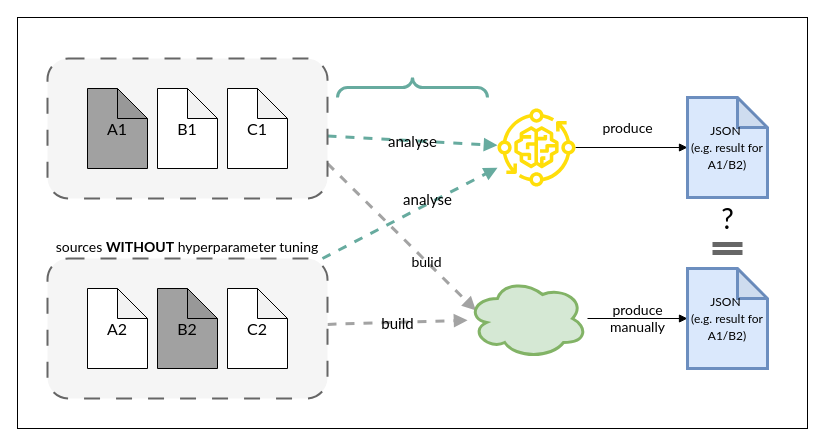
Image size: 825x446. Some labels were removed from this diagram. The box of each missing label's shape, as (x1, y1, x2, y2) in pixels:
GT: (466, 276, 588, 360)
LLM (for now GPT-3.5): (496, 108, 576, 186)
prompt-based learning: (336, 76, 488, 98)
sources WITH hyperparameter tuning: (46, 57, 328, 199)
